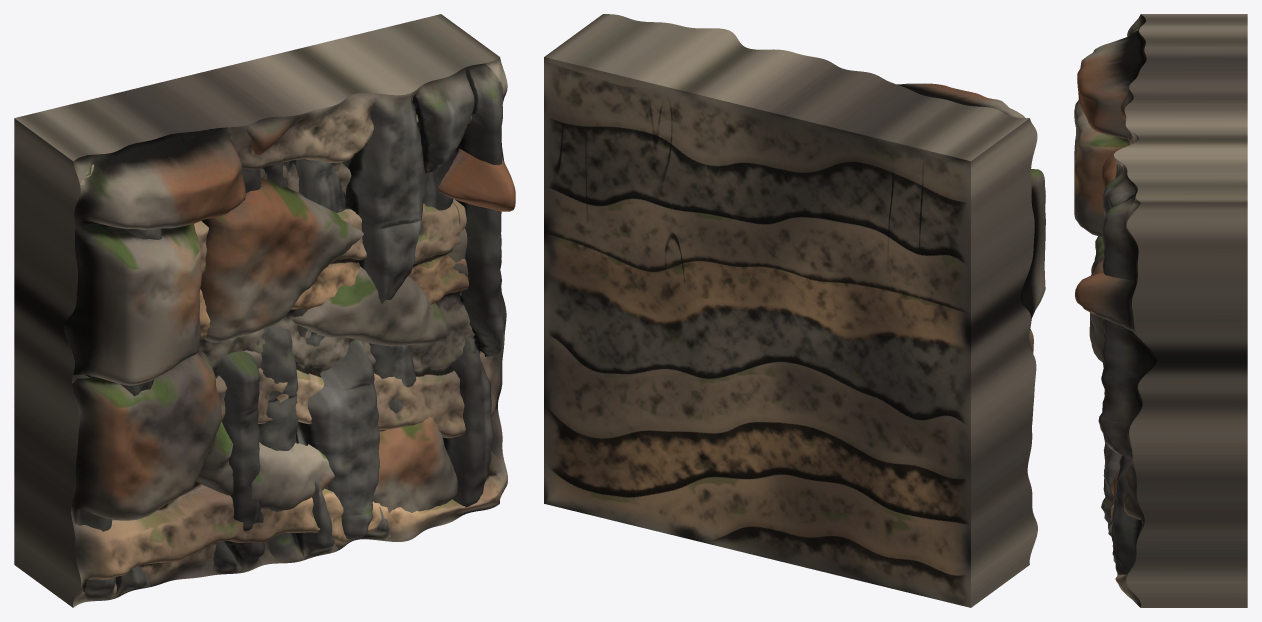
The model's file is CliffPan_ABC_preview.glb.
The picture shows the model from 3 angles, left to right: view 1: azimuth 30°, elevation 25°; view 2: azimuth 150°, elevation 25°; view 3: azimuth 270°, elevation 25°; orthographic projection. The views are drawn at different scales.
Visible parts, largest first — view 1: CliffPan_A, CliffPan_C, CliffPan_B; view 2: CliffPan_A, CliffPan_C; view 3: CliffPan_A, CliffPan_C, CliffPan_B.
Boxes of the visible parts, x1,y1,x2,y2 form: CliffPan_A: (14, 14, 507, 607); CliffPan_C: (64, 57, 515, 552); CliffPan_B: (71, 63, 506, 601); CliffPan_A: (544, 14, 1037, 607); CliffPan_C: (897, 83, 1045, 424); CliffPan_A: (1111, 14, 1247, 607); CliffPan_C: (1074, 14, 1146, 515); CliffPan_B: (1098, 158, 1157, 575).
Size of the model in its own units: 4 by 4 by 1.55.
Materials: 3 (3 with a texture image).
